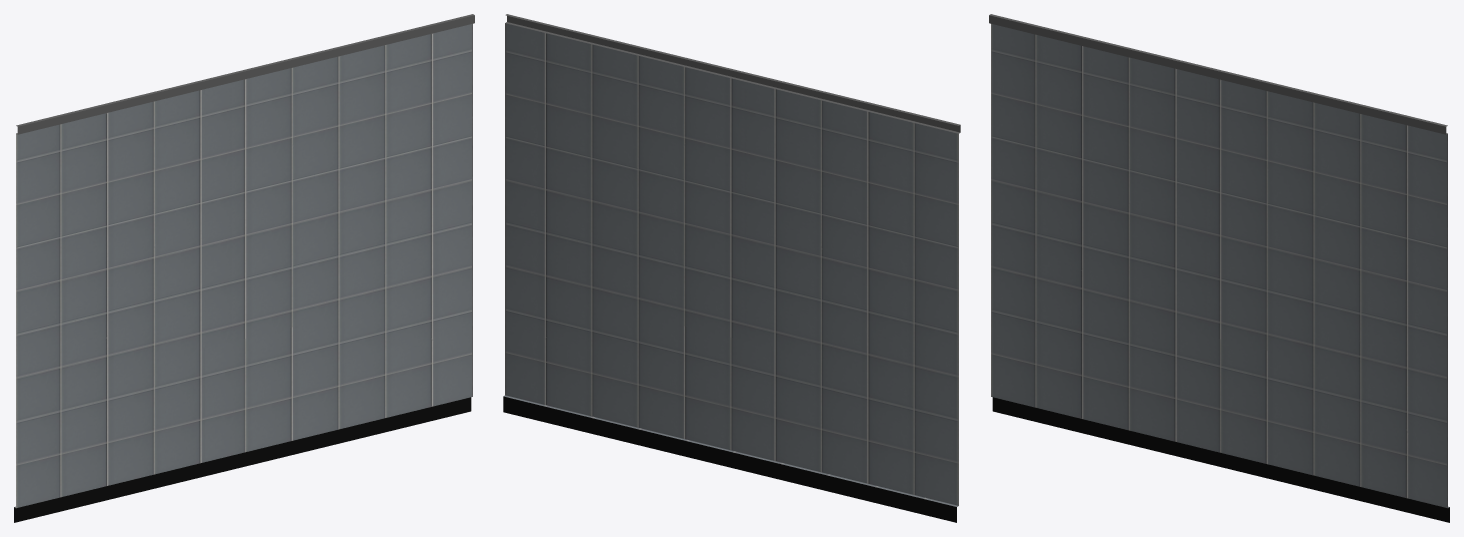
The model's file is stockwell_wall.obj.
3 renders of one model, left to right at view 1: azimuth 30°, elevation 25°; view 2: azimuth 150°, elevation 25°; view 3: azimuth 330°, elevation 25°, orthographic.
Parts seen in each view (by area): view 1: Circle.003; view 2: Circle.003; view 3: Circle.003.
Part boxes in pixels (box(x1,y1,x2,y2)): Circle.003: box(14, 14, 474, 522); Circle.003: box(503, 14, 960, 522); Circle.003: box(989, 14, 1449, 522).
Size of the model in its own units: 3 by 2.5 by 0.04.
Materials: 3 (1 with a texture image).
